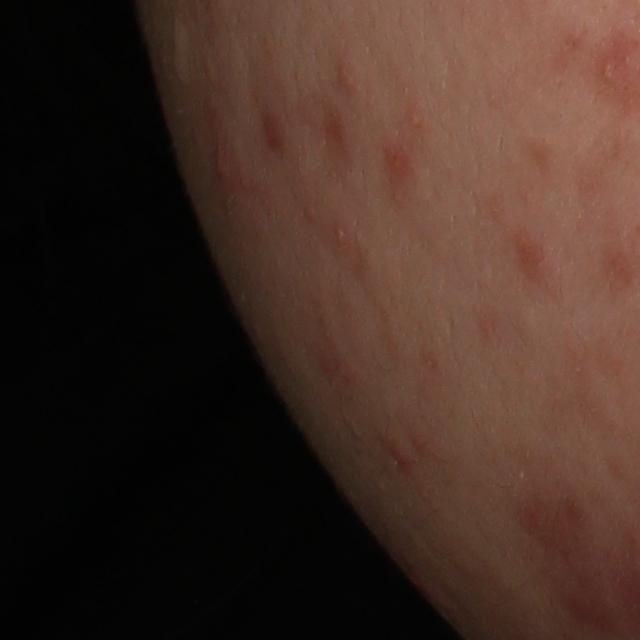papule: (513, 229, 549, 275), (211, 142, 236, 188), (261, 112, 288, 149), (384, 143, 412, 178), (334, 61, 354, 89), (391, 443, 413, 468)
